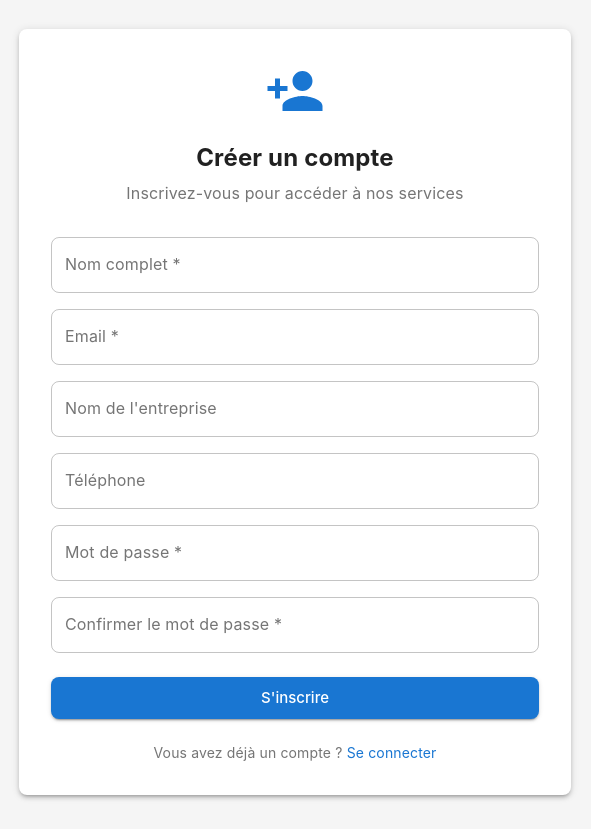
Test: ClientRegisterPage › refuse si les mots de passe ne correspondent pas
This screenshot has width=591, height=829.
Type "Jean Tremblay" into the field labelled "Nom complet *" at [295, 265], box [51,237,539,293]
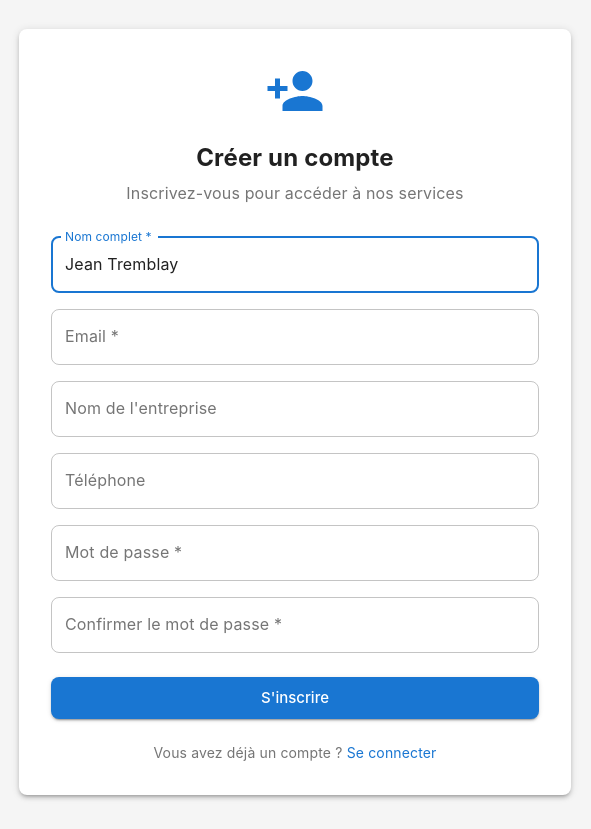
Type "jean@exemple.com" into the field labelled "Email *" at [295, 337], box [51,309,539,365]
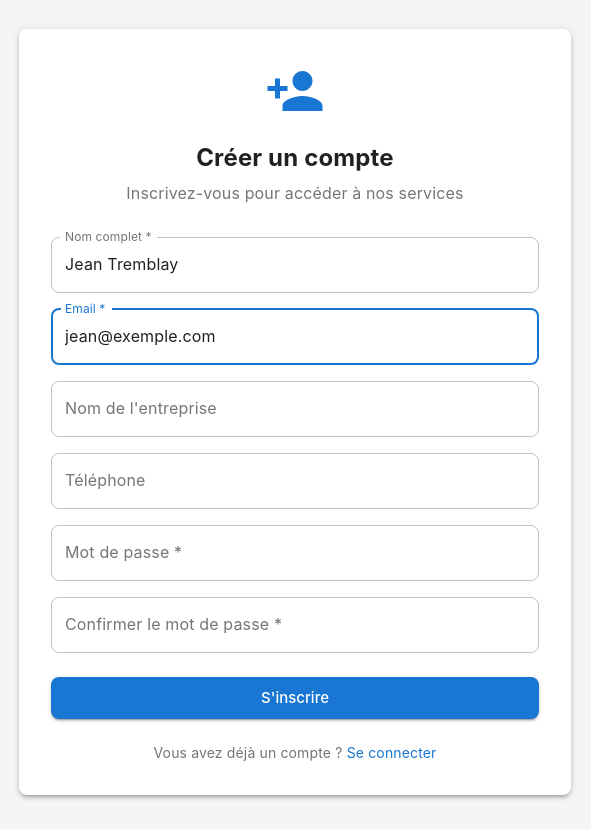
Type "secret123" into the password field labelled "Mot de passe *" at [295, 553], box [51,525,539,581]
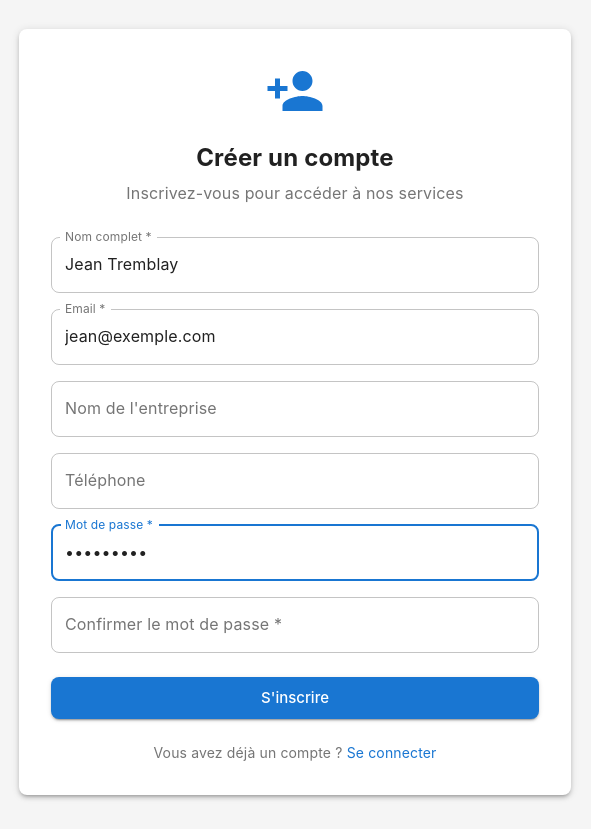
Type "different456" into the password field labelled "Confirmer le mot de passe *" at [295, 625], box [51,597,539,653]
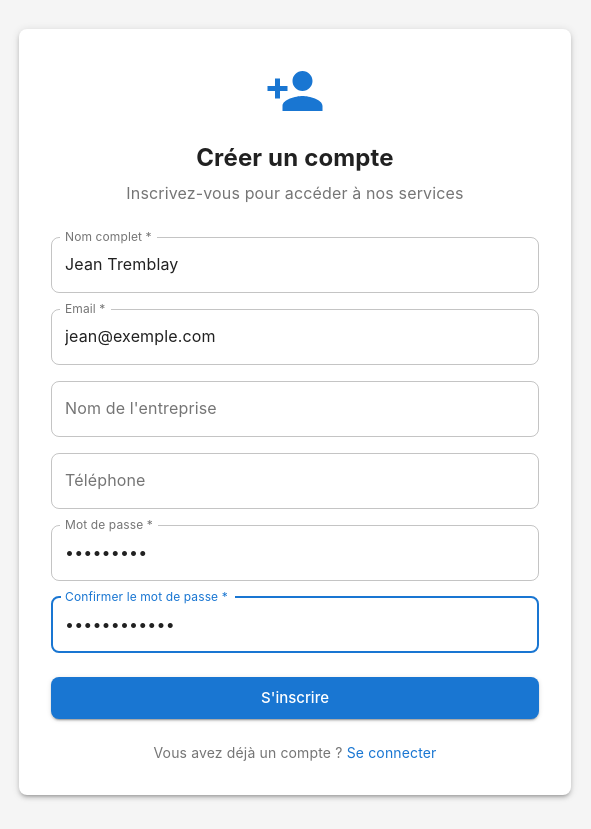
Click the button "S'inscrire" at [295, 698], box [51,677,539,719]
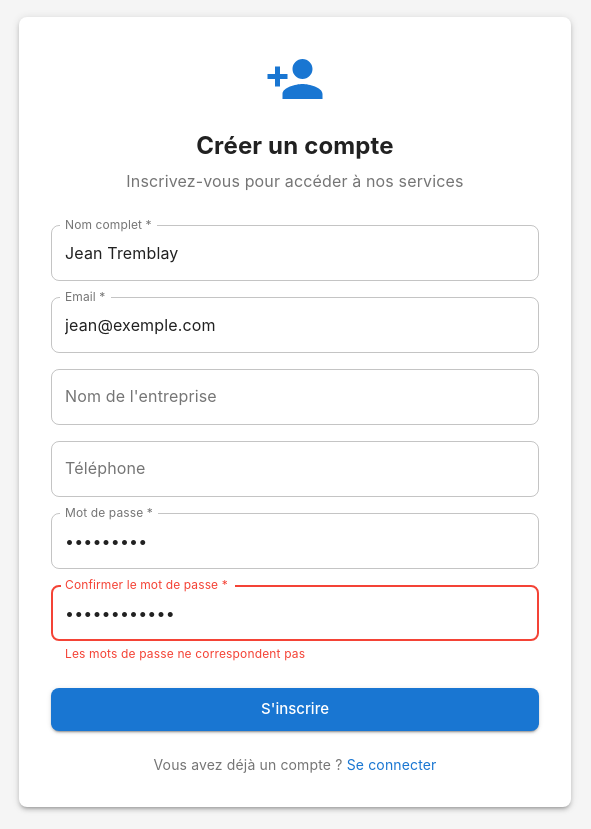
Check: the text "Les mots de passe ne correspondent pas" is shown, box [65,646,305,661]
